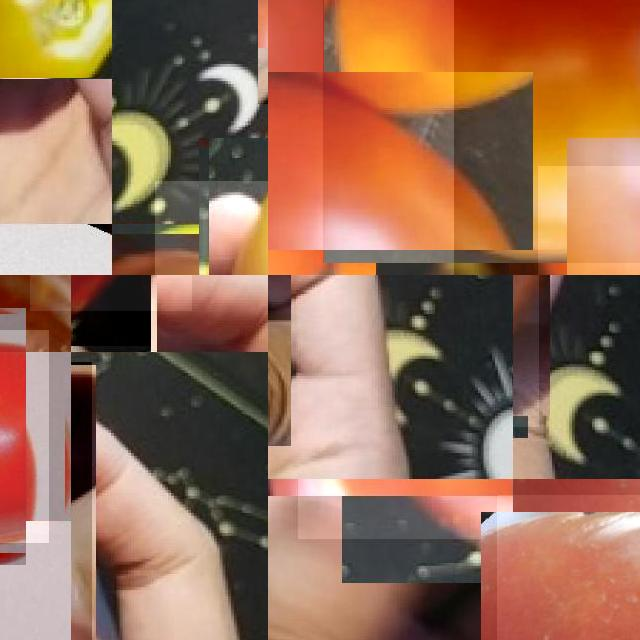1: (497, 495, 640, 640), (155, 180, 268, 275)
Fresh Tomato: (322, 0, 640, 263), (268, 0, 454, 275), (0, 329, 48, 543)
Rotten Tomato: (29, 275, 192, 310)
